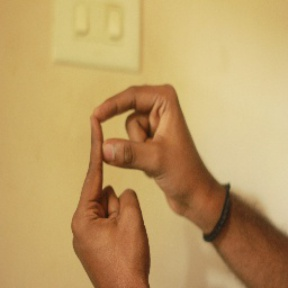P: (74, 80, 199, 247)
